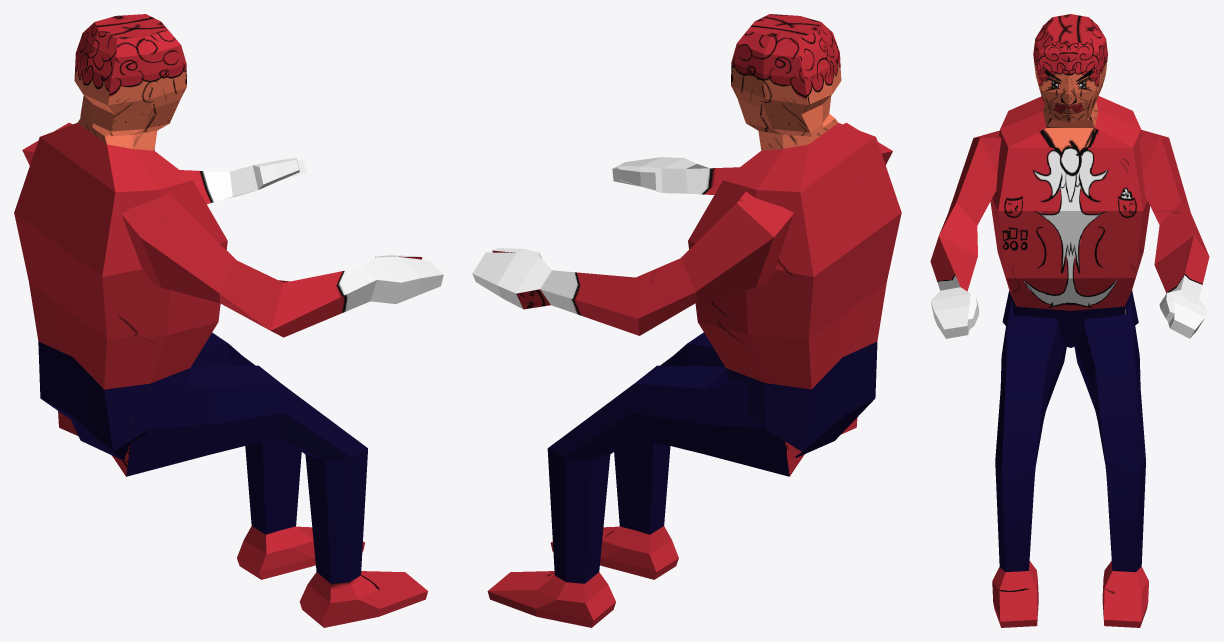
The model's file is Assis.fbx.
3 views of the same model, side by side, from view 1: azimuth 30°, elevation 25°; view 2: azimuth 150°, elevation 25°; view 3: azimuth 270°, elevation 25° (orthographic). The views are drawn at different scales.
Visible parts, largest first — view 1: Cube.001; view 2: Cube.001; view 3: Cube.001.
Part boxes in pixels (x1,y1,x2,y2): Cube.001: [14, 14, 443, 627]; Cube.001: [472, 14, 901, 627]; Cube.001: [930, 14, 1209, 627].
Bounding box in the file's own units: 187 × 333 × 167.
